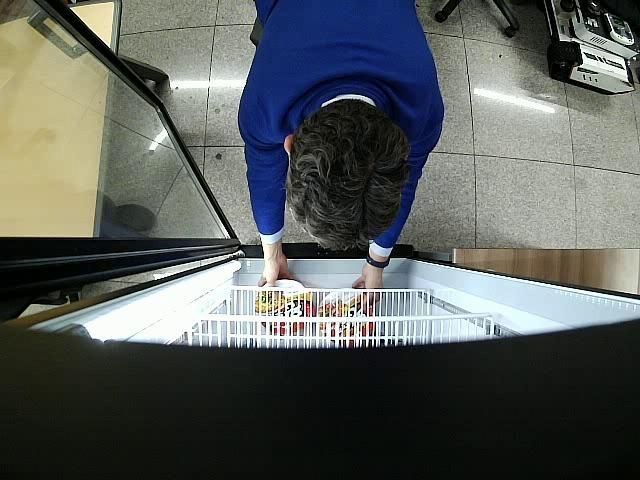10_wangTtukkeong: (318, 286, 376, 348), (255, 278, 316, 336)
